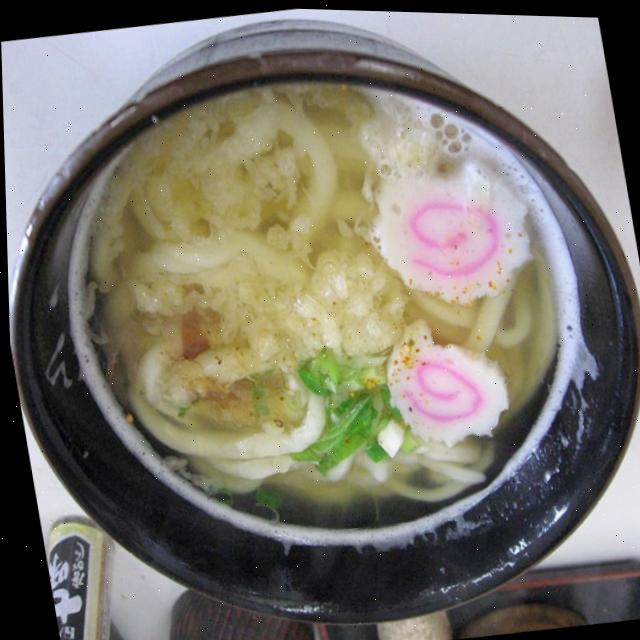面条主食: (2, 0, 629, 626)
